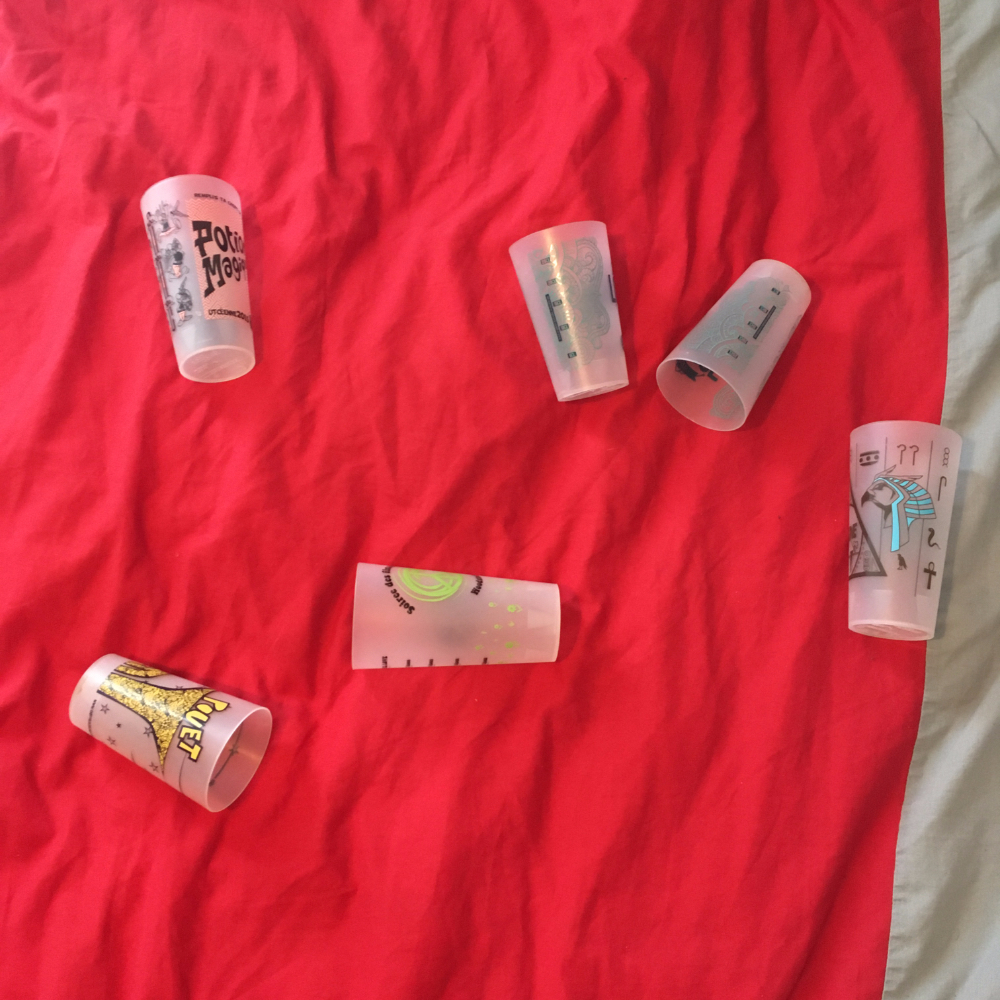ecocup: (69, 654, 271, 814), (656, 257, 811, 432), (848, 420, 963, 641), (139, 174, 255, 383), (350, 561, 561, 670), (509, 221, 630, 402)
